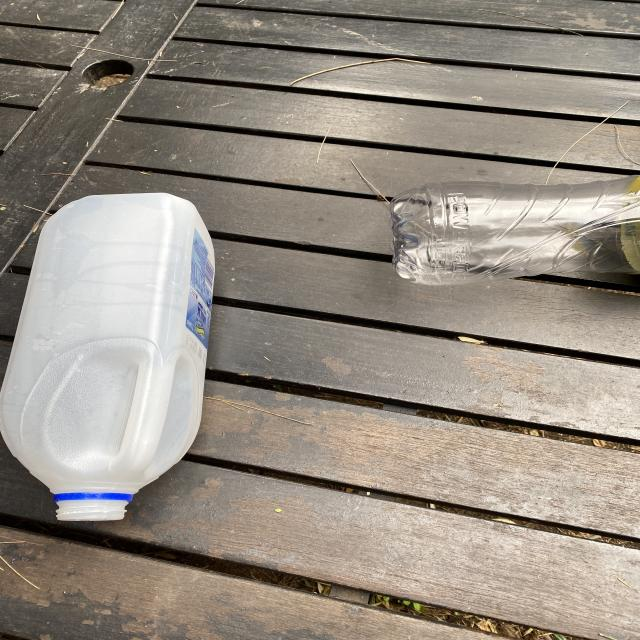bottle: (0, 193, 218, 519), (390, 176, 640, 287)
